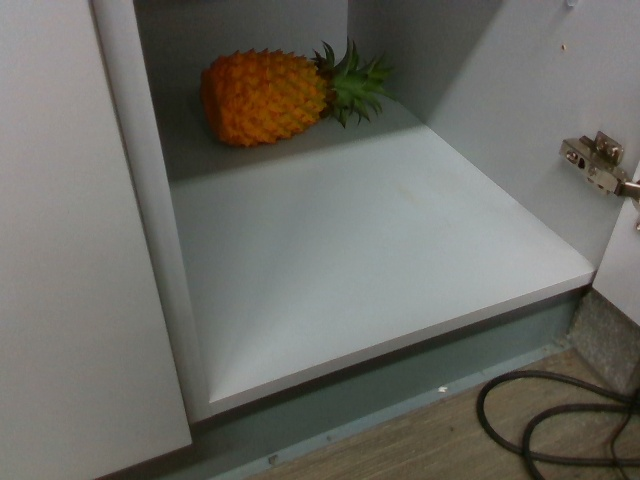pineapple: (204, 38, 378, 141)
